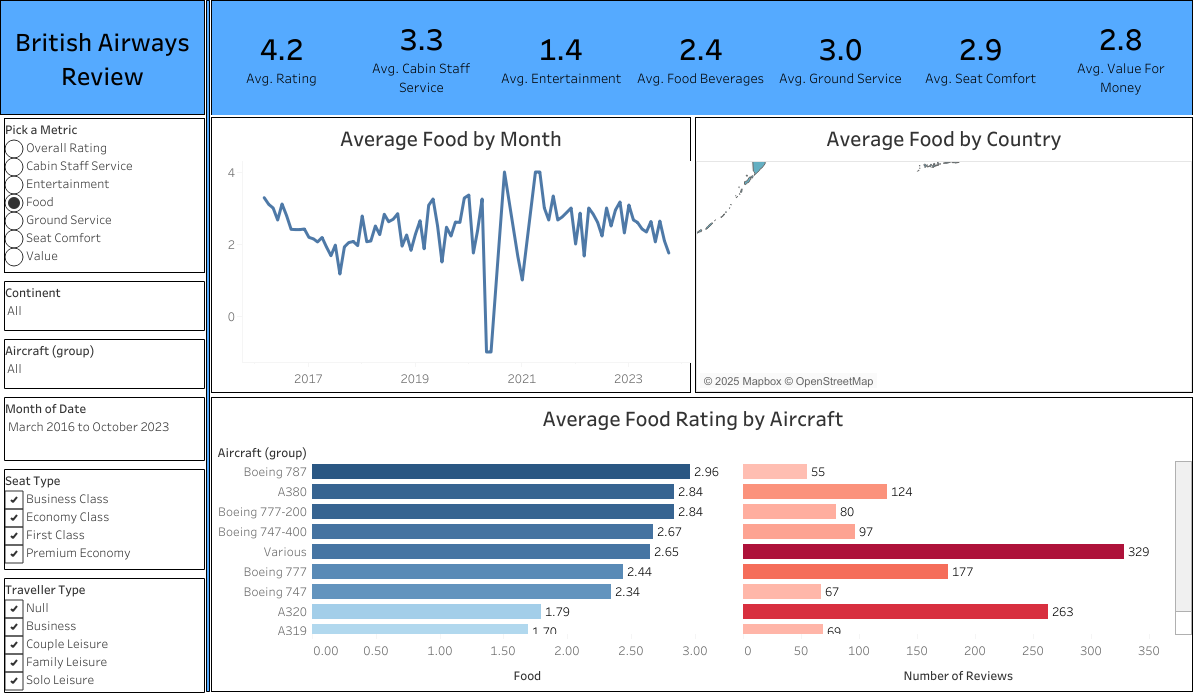

Layout of this report page (visuals, bound fields, positions):
{"tool":"tableau","page":{"name":"Dashboard 1","canvas":[1200,700],"ordinal":0},"visuals":[{"type":"text","box":[0,0,205,115]},{"type":"blank","box":[206,0,4,692]},{"type":"worksheet","title":"Summary","mark":"Automatic","box":[211,0,982,115]},{"type":"parameter","param":"[Parameters].[Parameter 1]","box":[0,114,209,163]},{"type":"worksheet","title":"Month","mark":"Automatic","rows":["Calculation_1126744340826046464"],"cols":["date"],"box":[211,117,480,276]},{"type":"worksheet","title":"Map","mark":"Automatic","box":[695,117,498,276]},{"type":"filter","title":"Map","param":"[federated.1qnmxhh110j24t1eku1hf1vn9tuc].[none:Continent:nk]","box":[0,277,209,54]},{"type":"filter","title":"Map","param":"[federated.1qnmxhh110j24t1eku1hf1vn9tuc].[Aircraft (group)]","box":[0,331,209,54]},{"type":"filter","title":"Map","param":"[federated.1qnmxhh110j24t1eku1hf1vn9tuc].[tmn:date:qk]","box":[0,385,209,71]},{"type":"worksheet","title":"Aircraft","mark":"Automatic","cols":["Calculation_1126744340826046464","ba_reviews.csv_1110F098F8014DDE8E8B4A2239406908"],"box":[211,397,982,295]},{"type":"filter","title":"Map","param":"[federated.1qnmxhh110j24t1eku1hf1vn9tuc].[none:seat_type:nk]","box":[0,456,209,109]},{"type":"filter","title":"Map","param":"[federated.1qnmxhh110j24t1eku1hf1vn9tuc].[none:traveller_type:nk]","box":[0,565,209,132]}]}

Visuals, with their boxes in screenshot pixels (x1, y1, x2, y2), scaled from the page's 1200x700 canvas onto the 1199x699 screenshot:
text: (0, 0, 205, 115)
blank: (206, 0, 210, 691)
"Summary" worksheet: (211, 0, 1192, 115)
parameter: (0, 114, 209, 277)
"Month" worksheet: (211, 117, 690, 392)
"Map" worksheet: (694, 117, 1192, 392)
"Map" filter: (0, 277, 209, 331)
"Map" filter: (0, 331, 209, 384)
"Map" filter: (0, 384, 209, 455)
"Aircraft" worksheet: (211, 396, 1192, 691)
"Map" filter: (0, 455, 209, 564)
"Map" filter: (0, 564, 209, 696)
